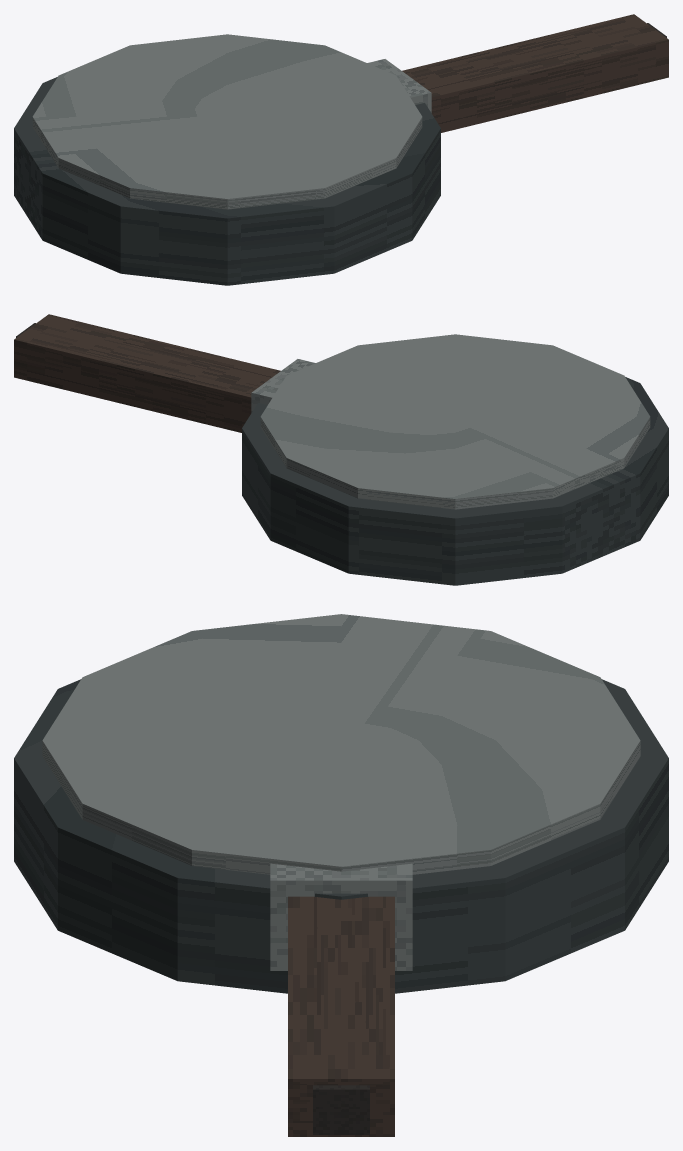
The model's file is sarten.glb.
The picture shows the model from 3 angles, top to bottom: view 1: azimuth 30°, elevation 25°; view 2: azimuth 150°, elevation 25°; view 3: azimuth 270°, elevation 25°; orthographic projection. The views are drawn at different scales.
Visible parts, largest first — view 1: sarten; view 2: sarten; view 3: sarten.
Part boxes in pixels (left/top/right/bottom): sarten: left=14, top=14, right=668, bottom=285; sarten: left=14, top=314, right=668, bottom=585; sarten: left=14, top=614, right=668, bottom=1136.
Bounding box in the file's own units: 0.4663 × 0.0572 × 0.2804.
Materials: 1 (1 with a texture image).
